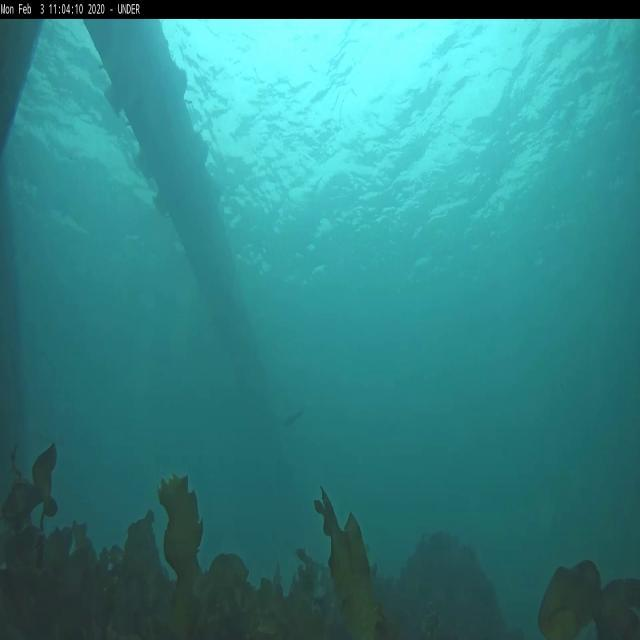fish: (282, 410, 304, 430)
